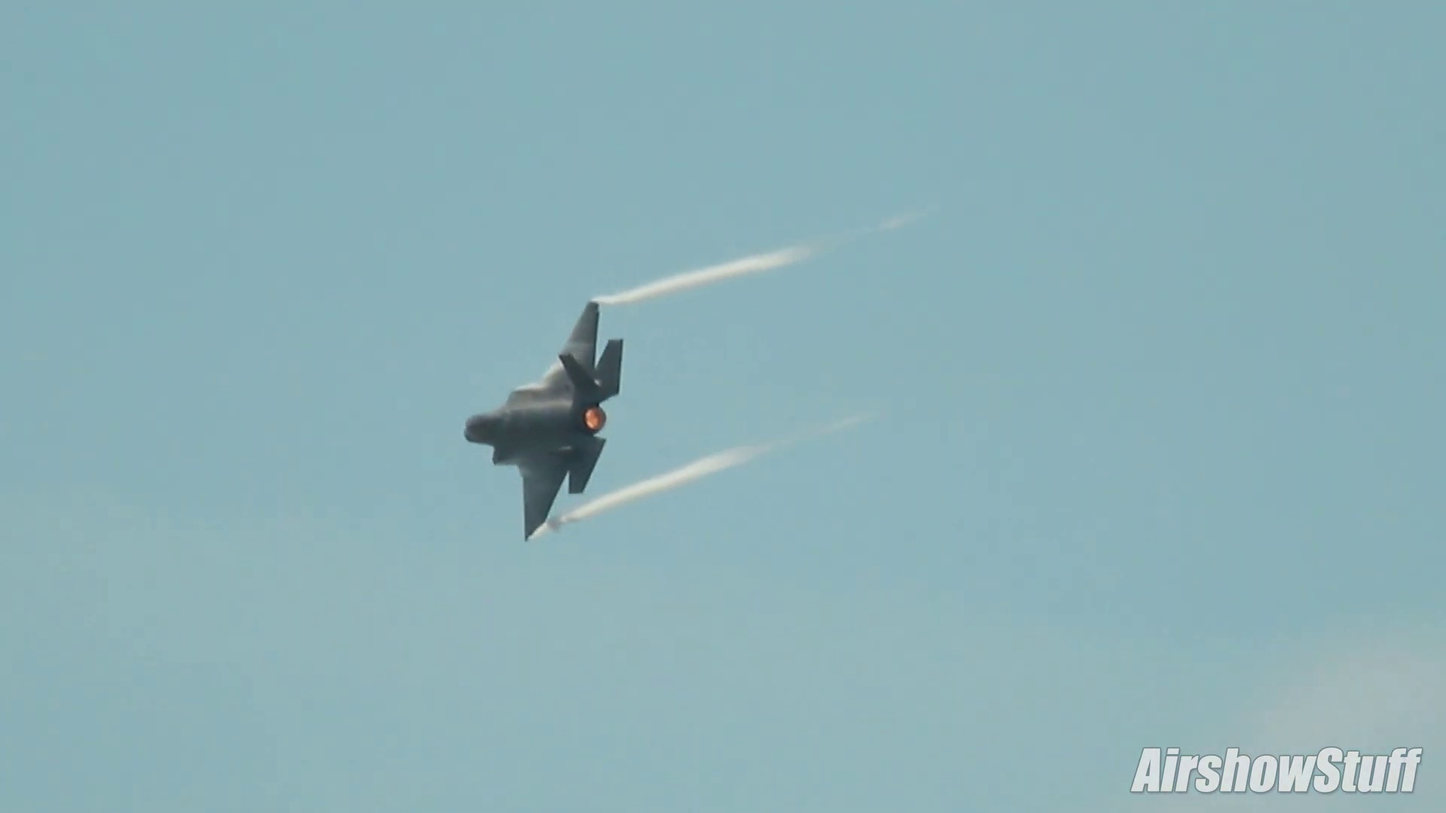F35: (459, 297, 628, 543)
